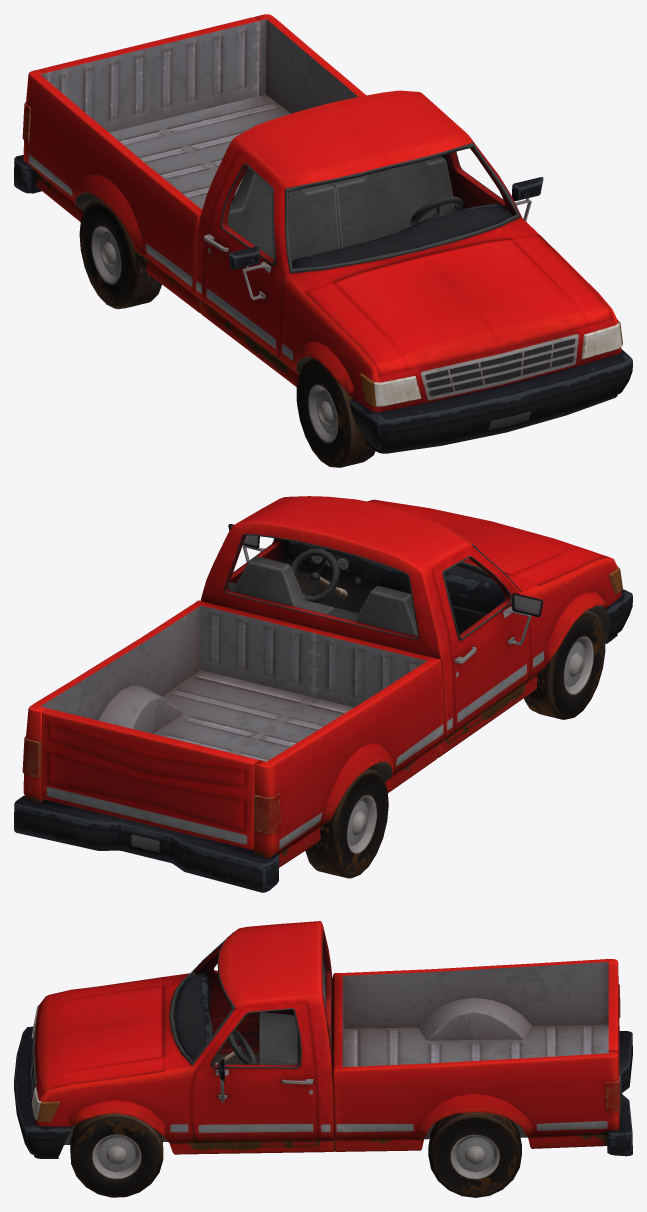
File: CarOld01.FBX
3 views of the same model, one above another, from view 1: azimuth 30°, elevation 25°; view 2: azimuth 150°, elevation 25°; view 3: azimuth 270°, elevation 25° (orthographic). The views are drawn at different scales.
Visible parts, largest first — view 1: CarOld01; view 2: CarOld01; view 3: CarOld01.
Part boxes in pixels (box(x1,y1,x2,y2)): CarOld01: box(14, 14, 632, 467); CarOld01: box(14, 496, 632, 892); CarOld01: box(14, 921, 632, 1197).
Bounding box in the file's own units: 2.47 × 1.8 × 5.09.
